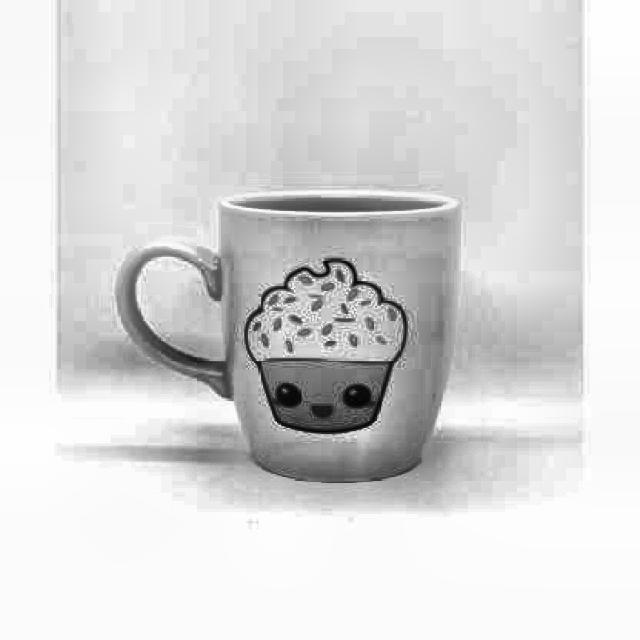Mug: (116, 191, 462, 484)
